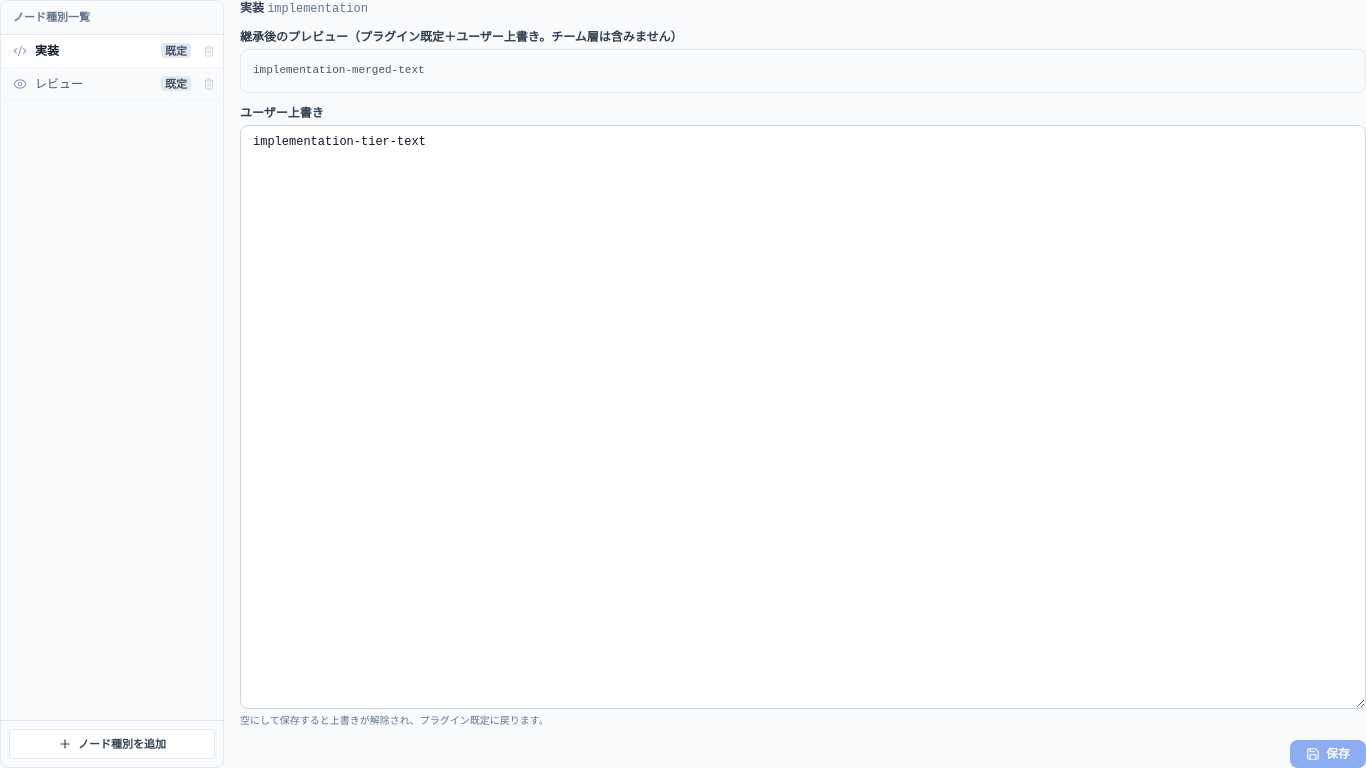
Test case: NodeTypesEditor › switching the selection with unsaved edits › keeps the selection and the edit when the user dismisses the dialog with the cancel button
Replace the text in the text box showing "implementation-tier-text" with "unsaved edit" at (803, 417), box [240,125,1365,709]
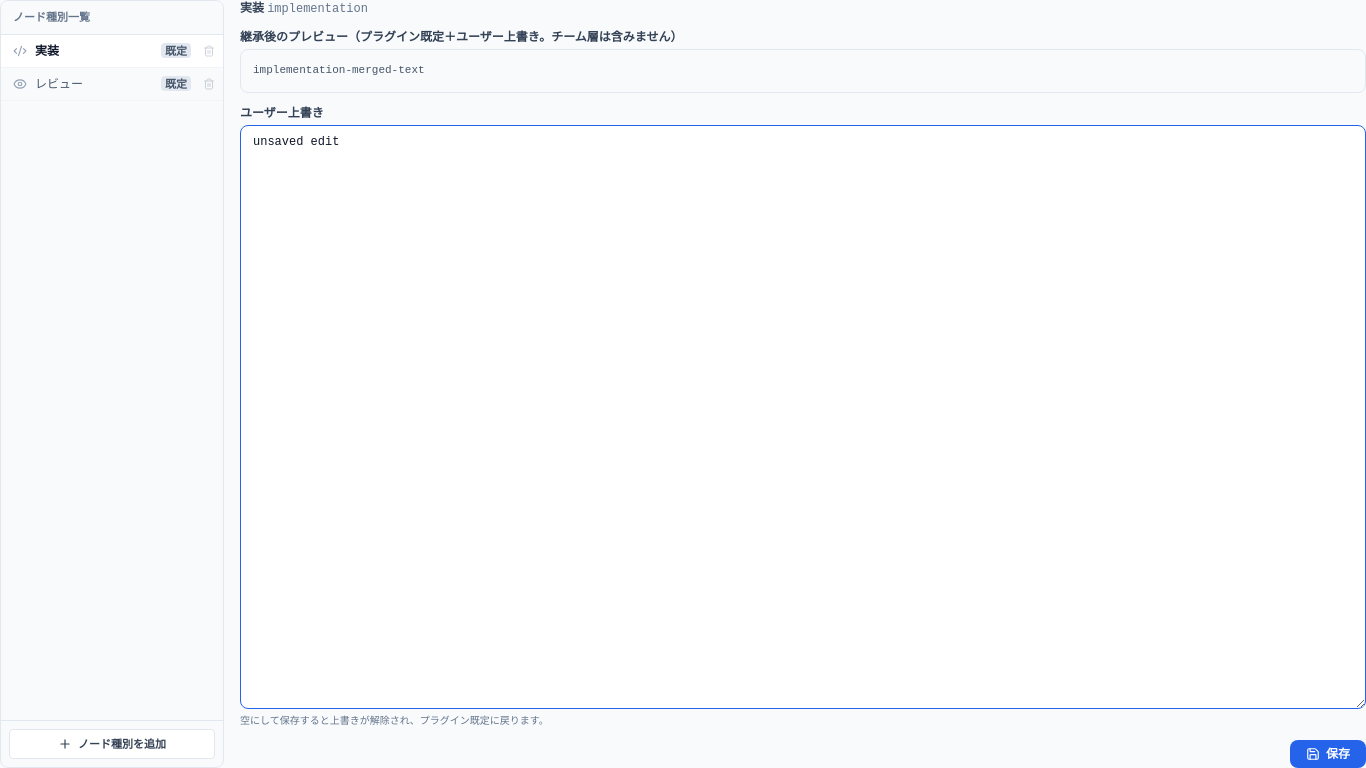
Click the button "レビュー 既定" at (98, 84), box [1,68,195,100]
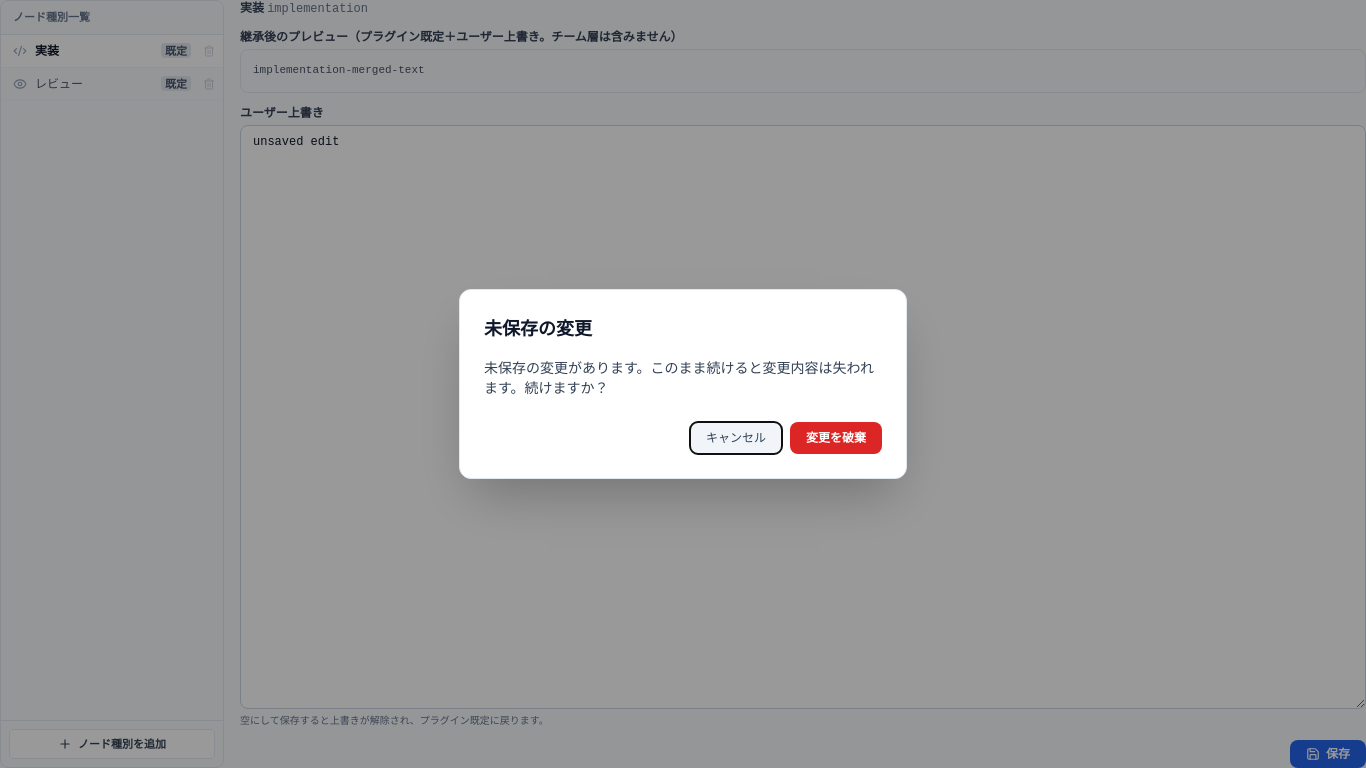
Click the button with test id "node-type-discard-confirm-cancel" at (736, 438), box [690,422,782,454]
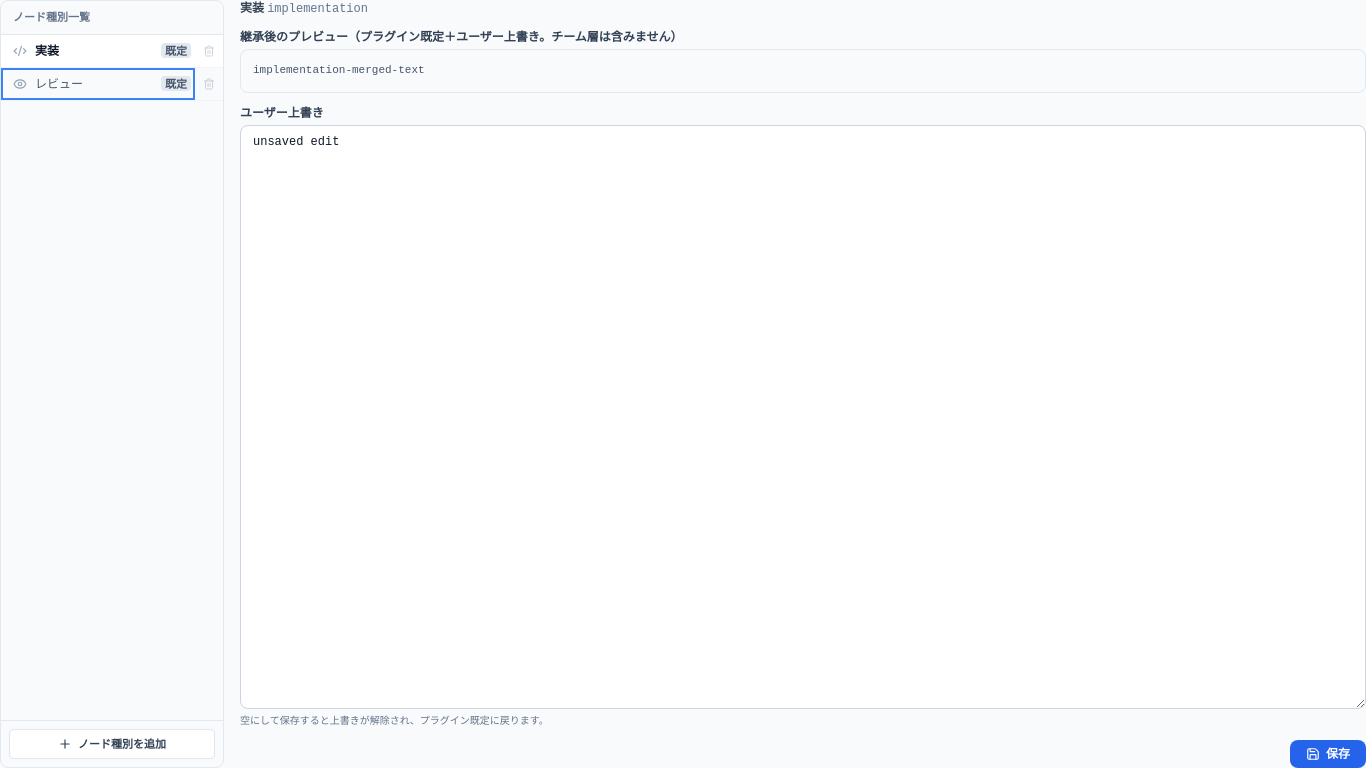
expect the dialog with test id "node-type-discard-confirm" is gone: met
